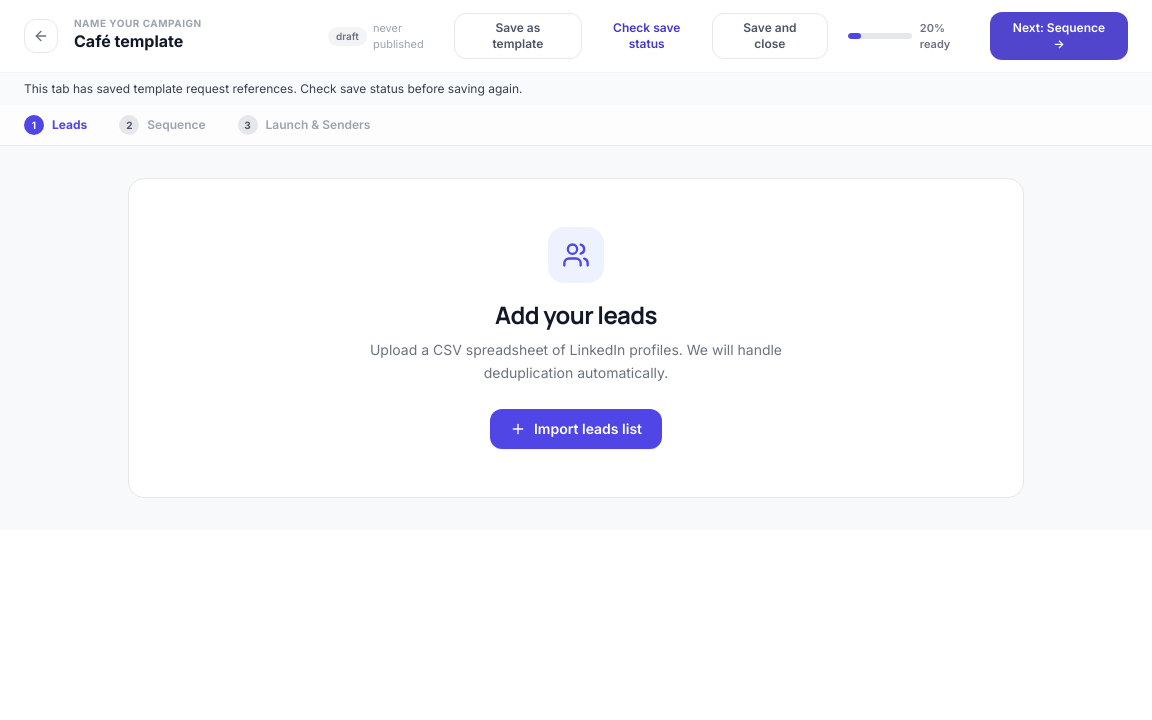
Test: foreign scope references are preserved and never used for status
This screenshot has width=1152, height=720.
Expected: the button "Save as template" is disabled, [454,13,582,59]
Click the button "Check save status": (647, 36) [594,20,700,52]
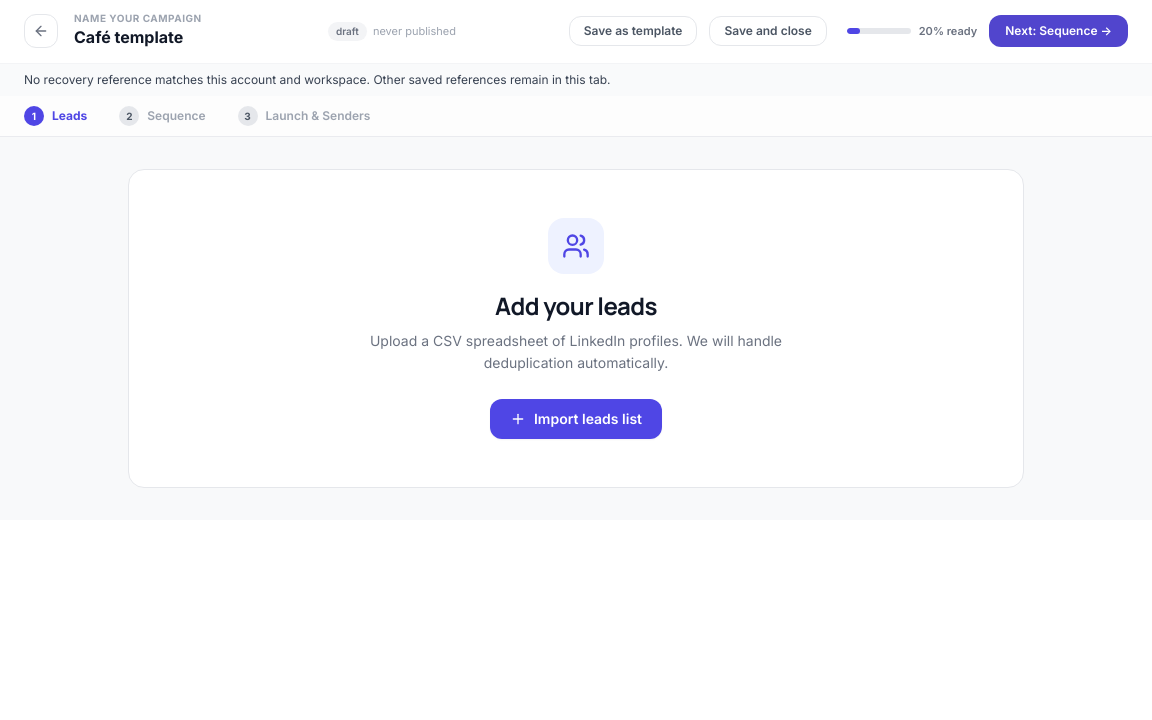
Result: the button "Save as template" is enabled at [569,16,698,46]
